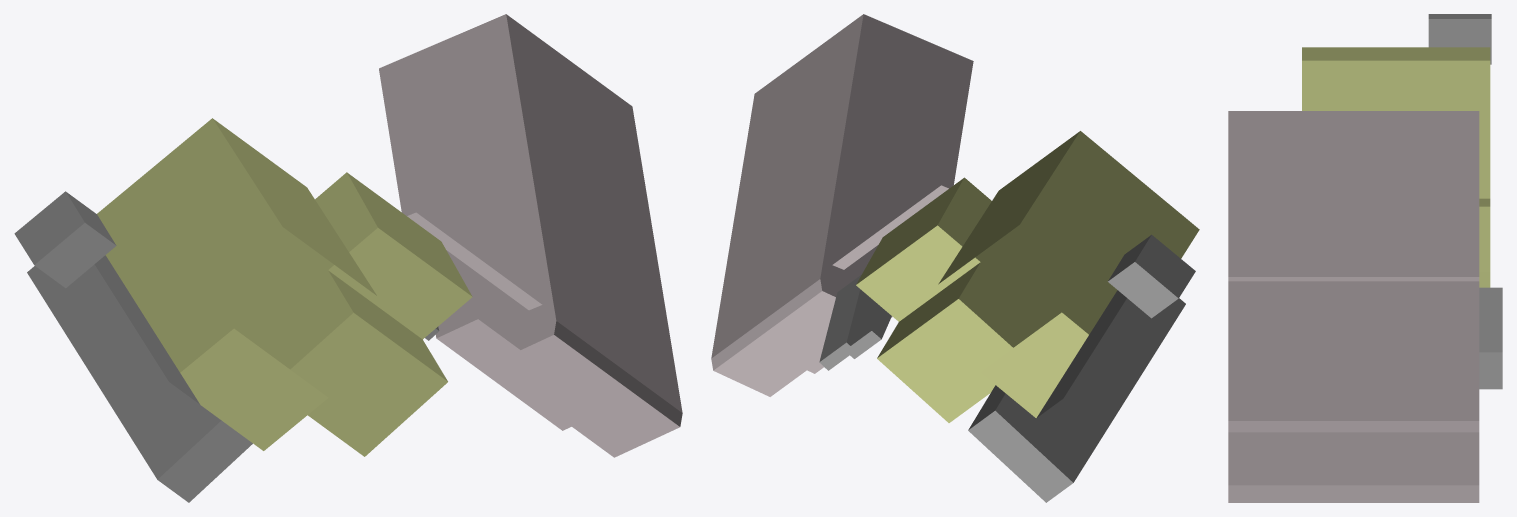
3 views of the same model, side by side, from view 1: azimuth 30°, elevation 25°; view 2: azimuth 150°, elevation 25°; view 3: azimuth 270°, elevation 25° (orthographic). The views are drawn at different scales.
Visible parts, largest first — view 1: 0_2_2_0_3_3_3_1_0; view 2: 0_2_2_0_3_3_3_1_0; view 3: 0_2_2_0_3_3_3_1_0.
Part boxes in pixels (x1,y1,x2,y2): 0_2_2_0_3_3_3_1_0: [14, 14, 682, 502]; 0_2_2_0_3_3_3_1_0: [711, 14, 1199, 502]; 0_2_2_0_3_3_3_1_0: [1228, 14, 1502, 502].
Size of the model in its own units: 29.4 by 20.24 by 13.11.
